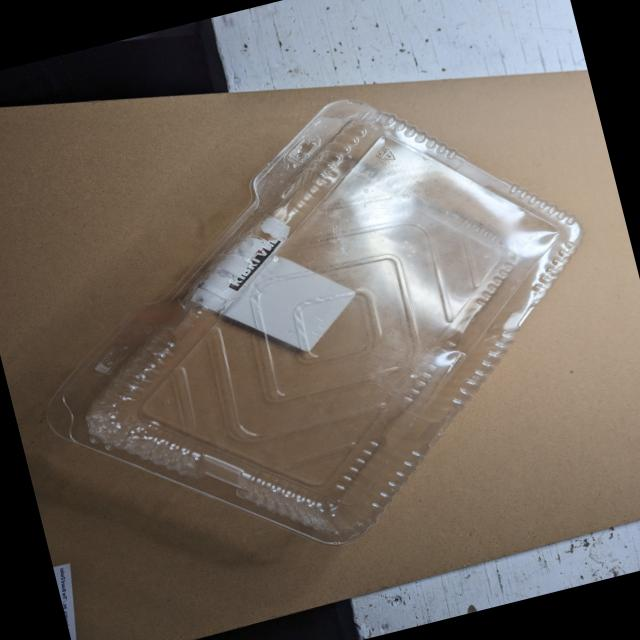Clamshell: (16, 81, 606, 577)
Label: (180, 210, 360, 358)
